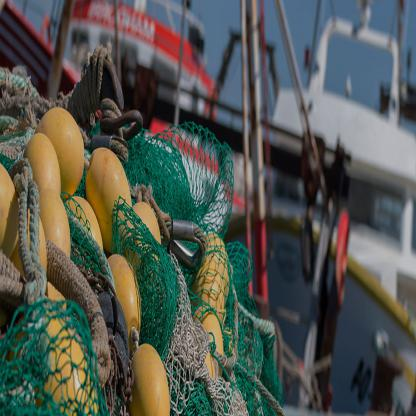buoy: (0, 105, 246, 415)
